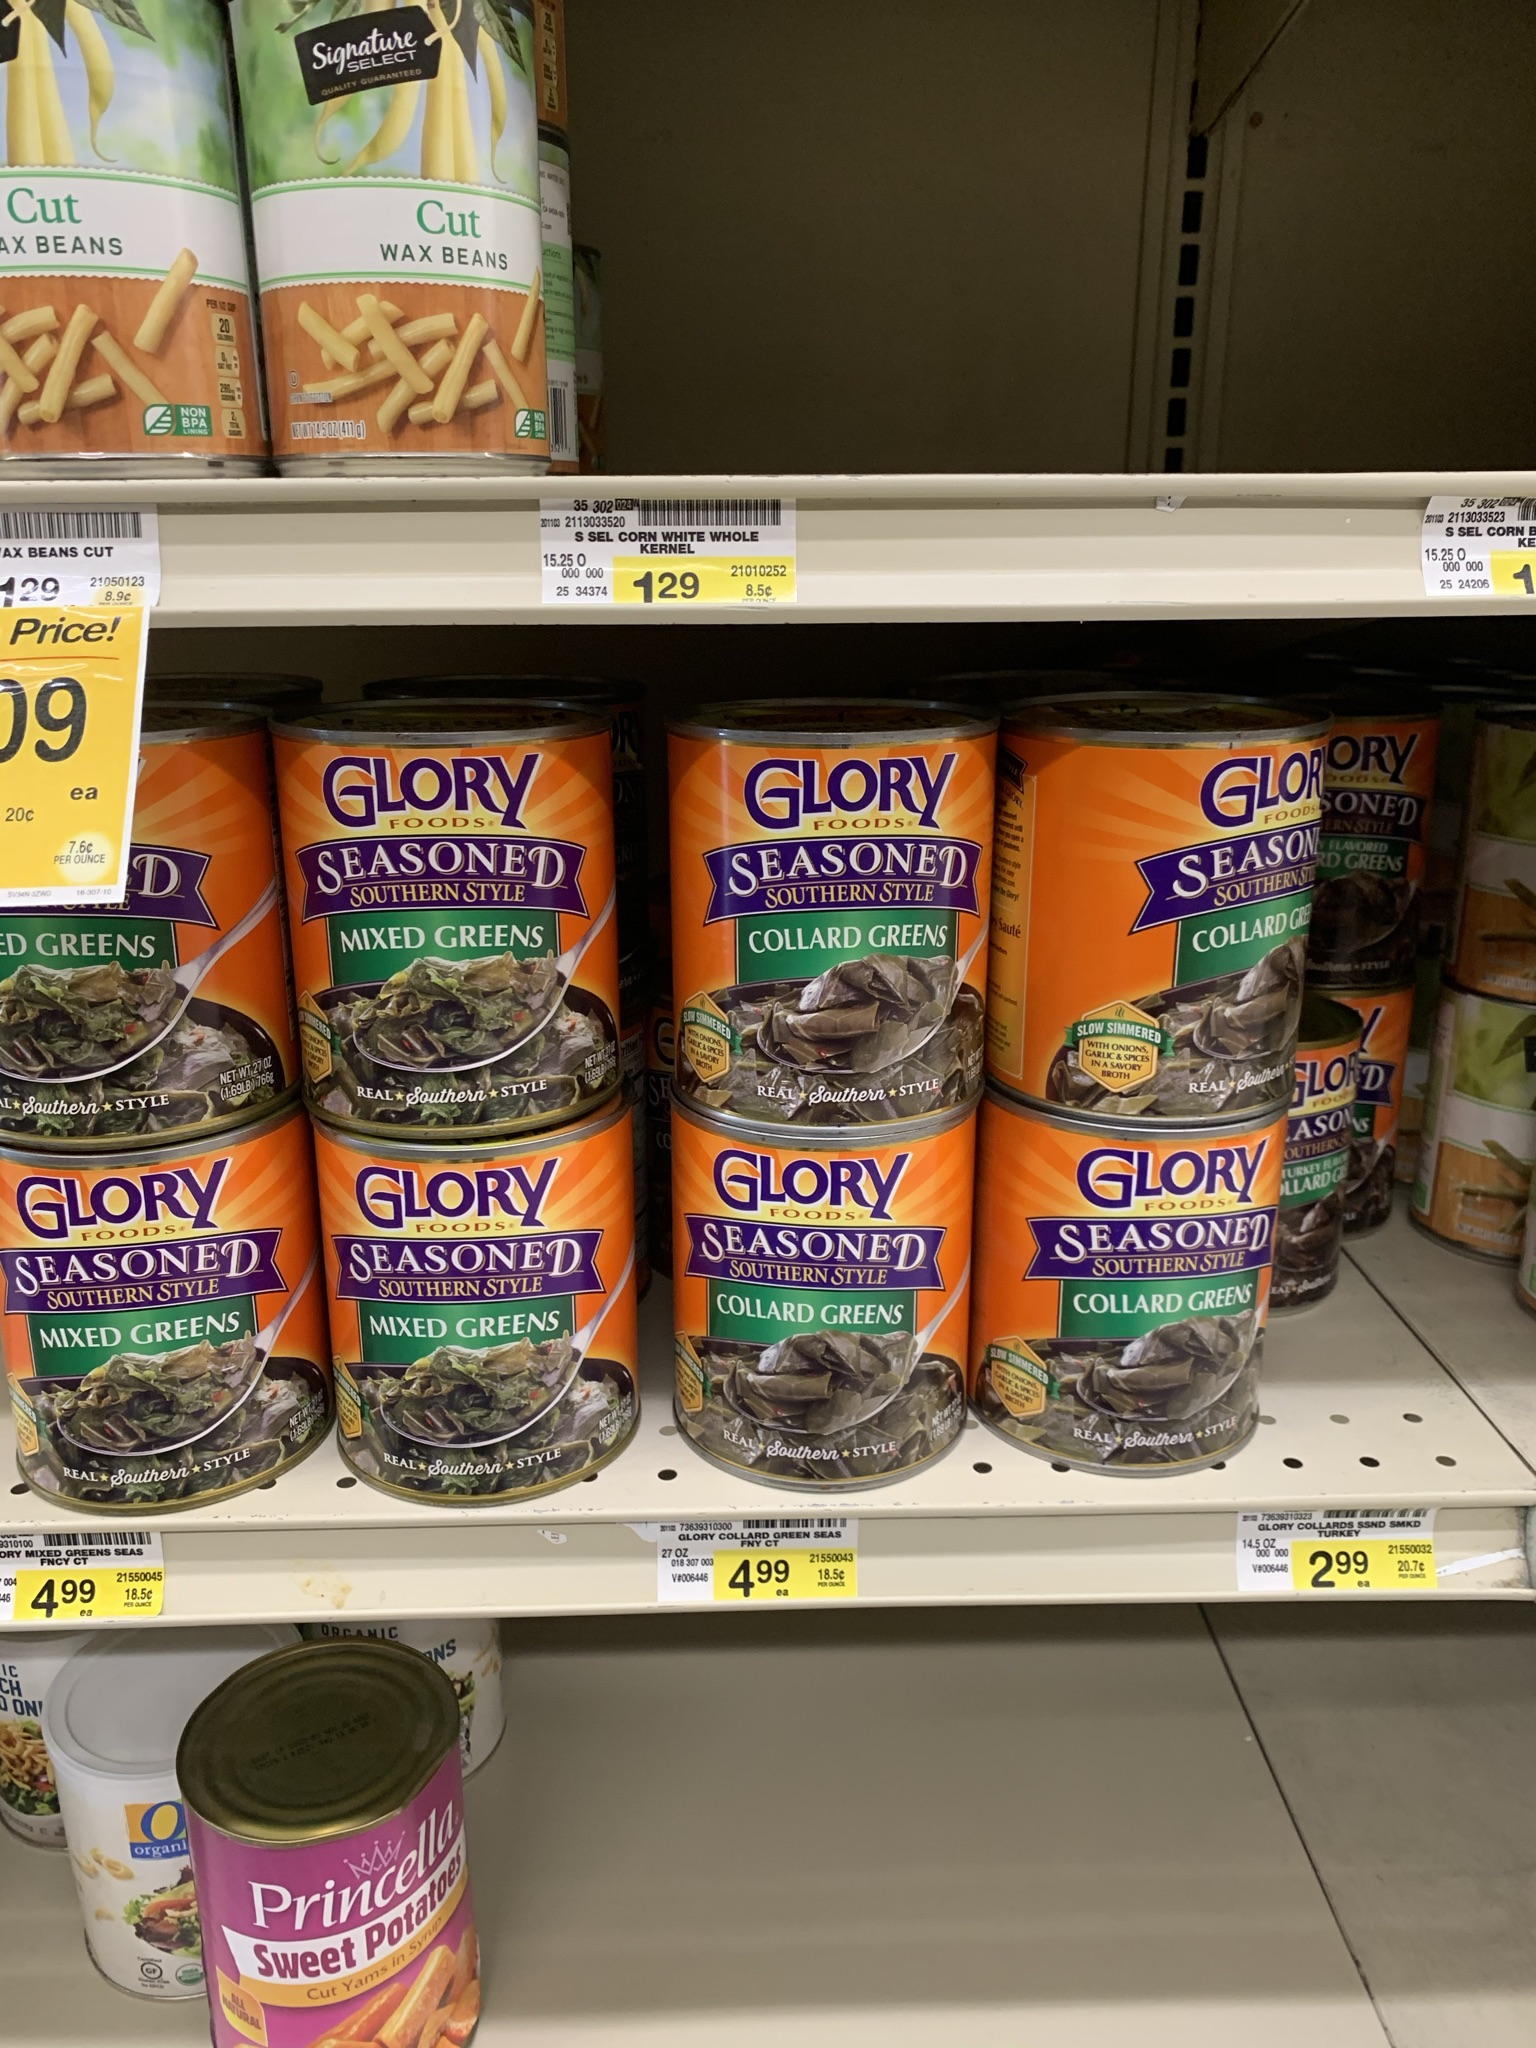can: (231, 3, 581, 481), (273, 722, 623, 1138), (673, 722, 992, 1130), (1012, 732, 1305, 1109), (6, 1143, 279, 1498), (699, 1127, 971, 1482), (345, 1135, 623, 1472), (995, 1130, 1276, 1461), (205, 1787, 482, 2038)
